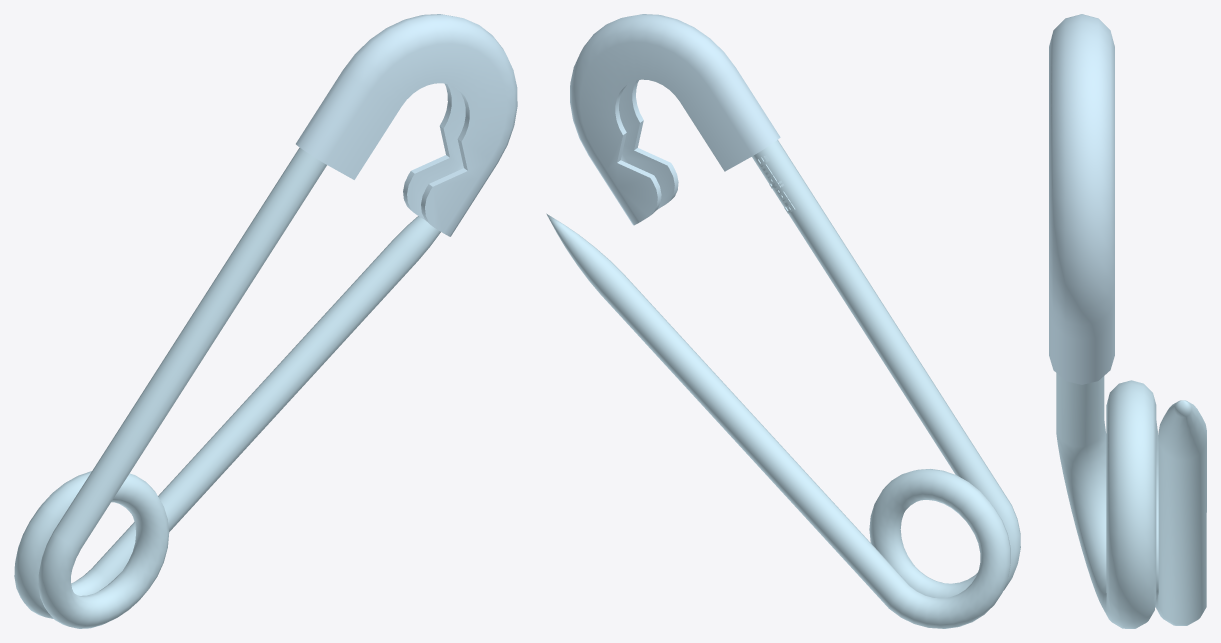
The model's file is safety_pin.gltf.
3 views of the same model, side by side, from view 1: azimuth 30°, elevation 25°; view 2: azimuth 150°, elevation 25°; view 3: azimuth 270°, elevation 25° (orthographic). The views are drawn at different scales.
Parts seen in each view (by area): view 1: Torus.013; view 2: Torus.013; view 3: Torus.013.
Part boxes in pixels (box(x1,y1,x2,y2)): Torus.013: box(14, 14, 517, 628); Torus.013: box(546, 14, 1020, 628); Torus.013: box(1049, 14, 1206, 628).
Size of the model in its own units: 2.01 by 2.17 by 0.38.
Materials: 1 (1 with a texture image).
